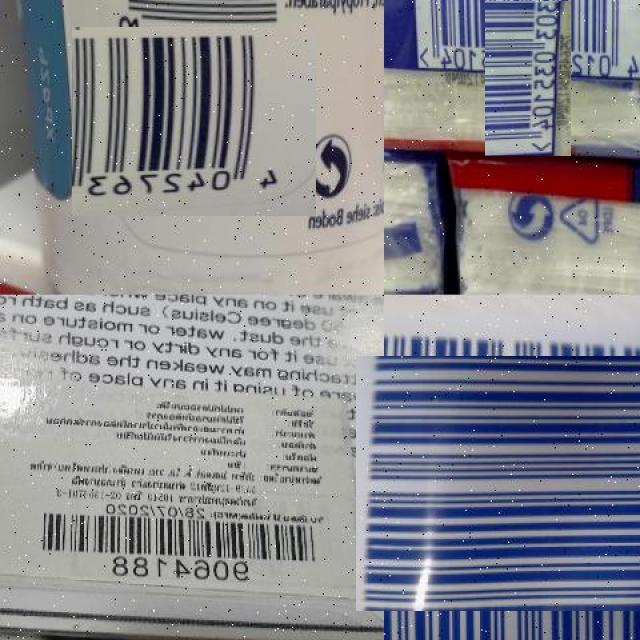Barcode: (370, 342, 640, 626), (85, 13, 303, 230), (31, 511, 328, 590), (450, 0, 606, 122)
